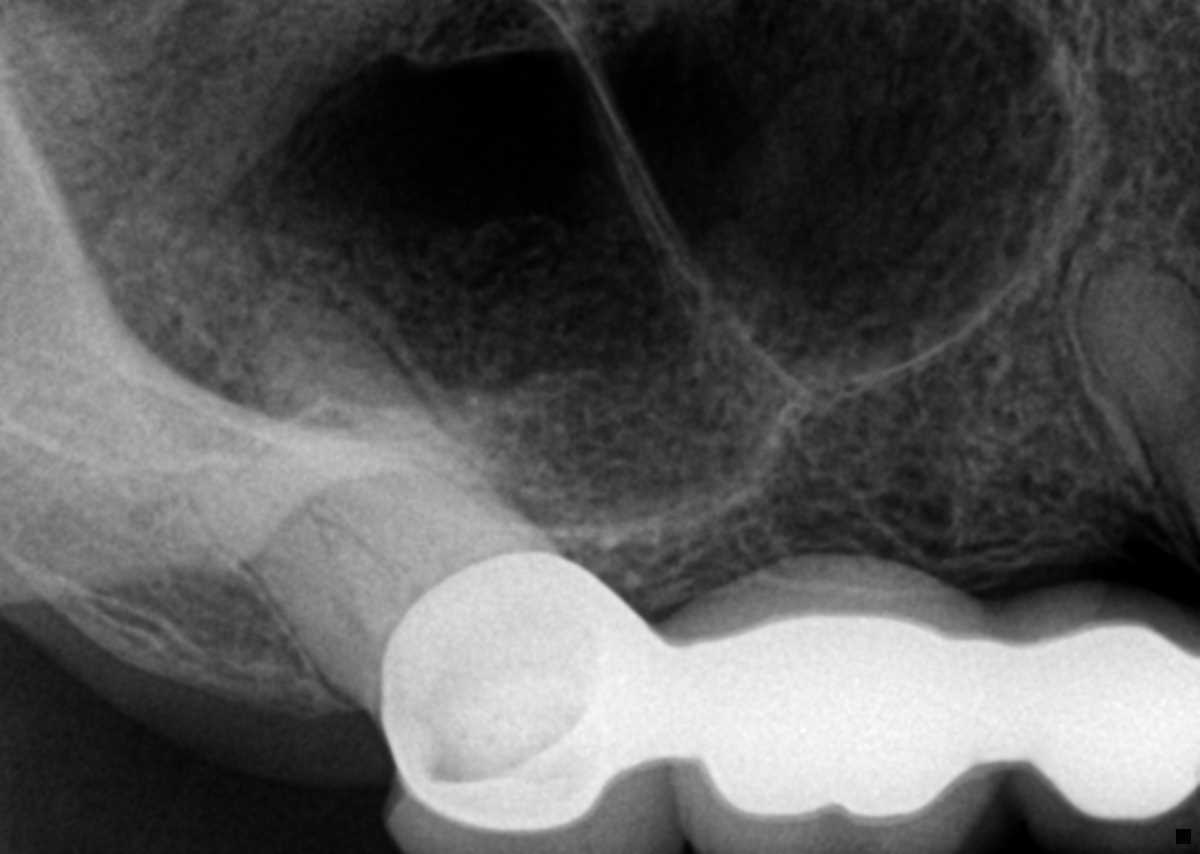Distal Root: (191, 465, 411, 712)
Main Canal: (1115, 300, 1194, 398)
Main Root: (1074, 252, 1200, 506)
Mesial Root: (233, 425, 502, 578)
Palatal Root: (245, 282, 547, 612)
